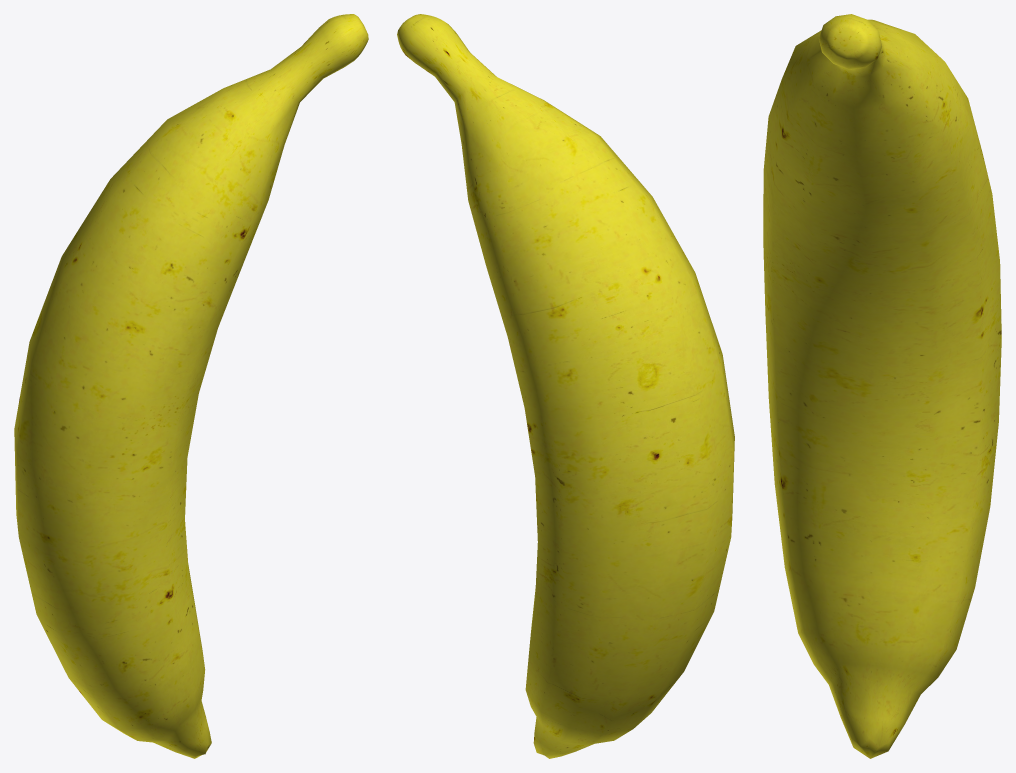
File: banana.FBX
The picture shows the model from 3 angles, left to right: view 1: azimuth 30°, elevation 25°; view 2: azimuth 150°, elevation 25°; view 3: azimuth 270°, elevation 25°; orthographic projection. The views are drawn at different scales.
Visible parts, largest first — view 1: Cylinder001; view 2: Cylinder001; view 3: Cylinder001.
Part boxes in pixels (x1=…): Cylinder001: x1=14, y1=14, x2=368, y2=758; Cylinder001: x1=397, y1=14, x2=734, y2=758; Cylinder001: x1=763, y1=14, x2=1001, y2=758.
Bounding box in the file's own units: 11.09 × 22.8 × 6.06.
Materials: 1 (1 with a texture image).
